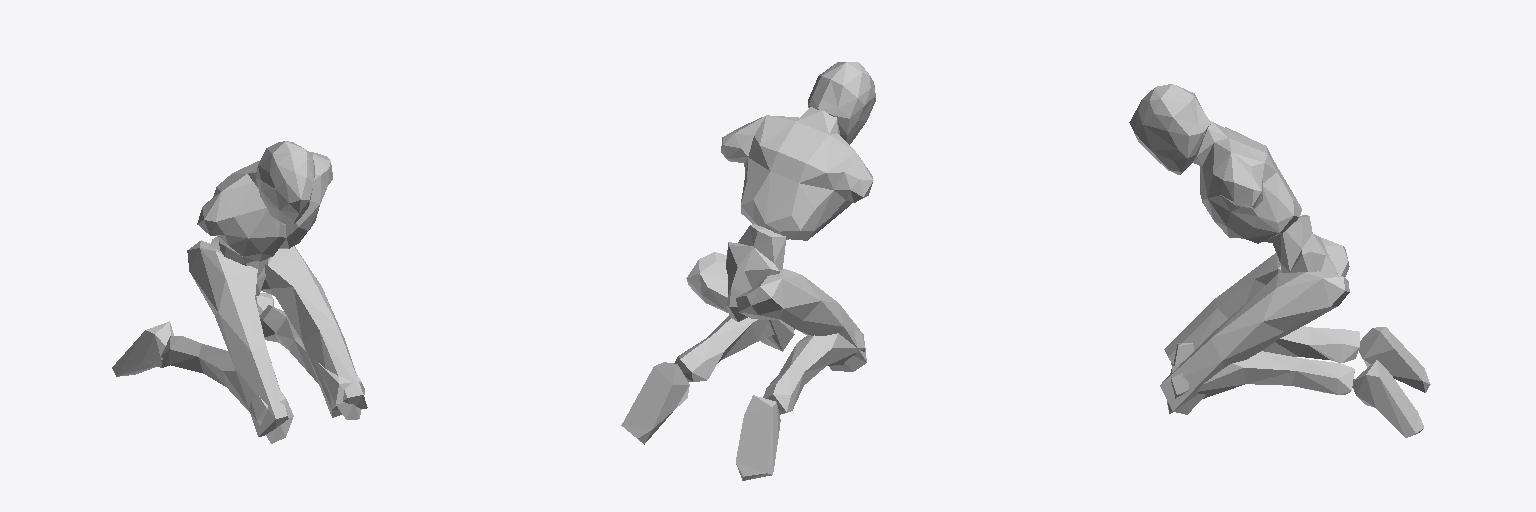
File: filth50.obj
The picture shows the model from 3 angles: view 1: azimuth 30°, elevation 25°; view 2: azimuth 150°, elevation 25°; view 3: azimuth 270°, elevation 25°; orthographic projection.
Visible parts, largest first — view 1: Melee_Husk; view 2: Melee_Husk; view 3: Melee_Husk.
Boxes of the visible parts, x1,y1,x2,y2 form: Melee_Husk: [112, 141, 367, 443]; Melee_Husk: [621, 62, 875, 480]; Melee_Husk: [1129, 84, 1430, 437].
Size of the model in its own units: 23.13 by 45.01 by 38.32.